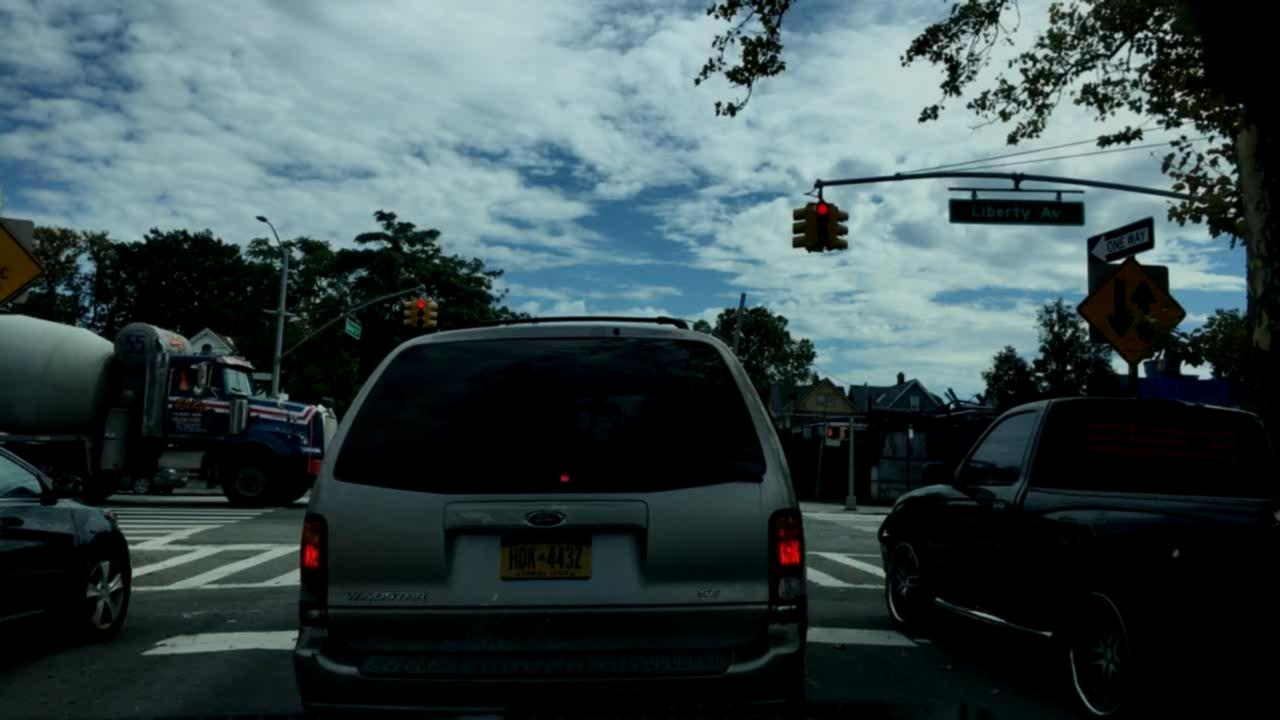ford: (506, 501, 575, 532)
